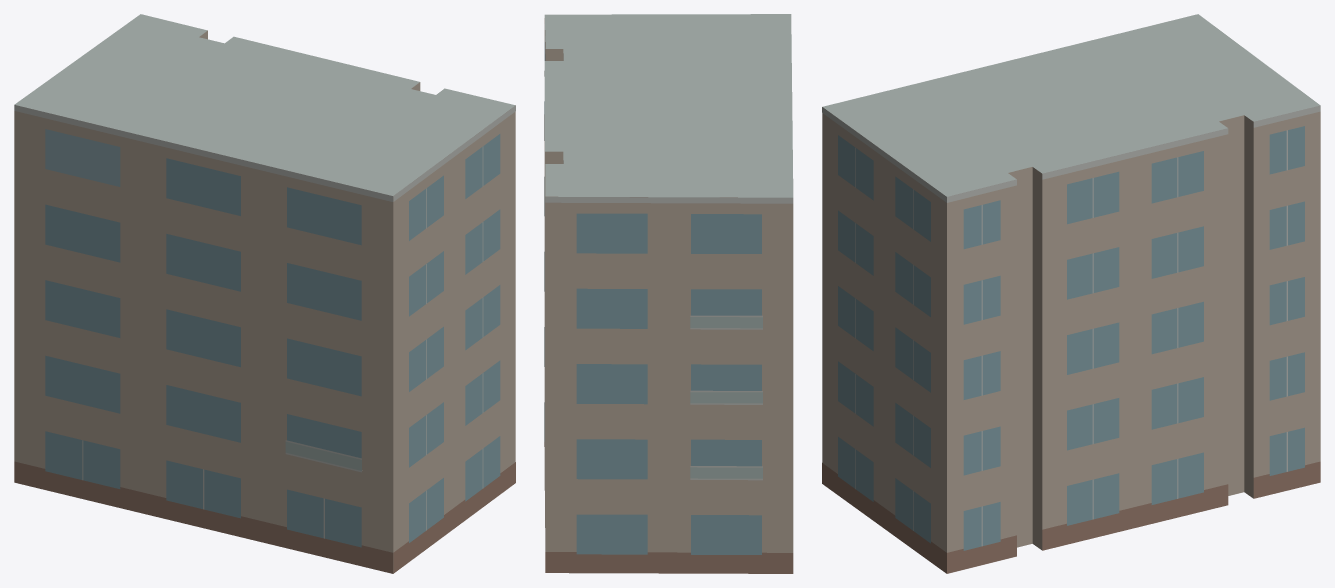
The model's file is survey-upis-32741554.glb.
3 views of the same model, side by side, from view 1: azimuth 30°, elevation 25°; view 2: azimuth 150°, elevation 25°; view 3: azimuth 270°, elevation 25° (orthographic).
Parts seen in each view (by area): view 1: survey-upis-32741554.tmp; view 2: survey-upis-32741554.tmp; view 3: survey-upis-32741554.tmp.
Boxes of the visible parts, x1=… form: survey-upis-32741554.tmp: x1=14, y1=14, x2=515, y2=573; survey-upis-32741554.tmp: x1=544, y1=14, x2=793, y2=573; survey-upis-32741554.tmp: x1=822, y1=14, x2=1320, y2=573.
Bounding box in the file's own units: 15.88 × 15.25 × 18.28.
